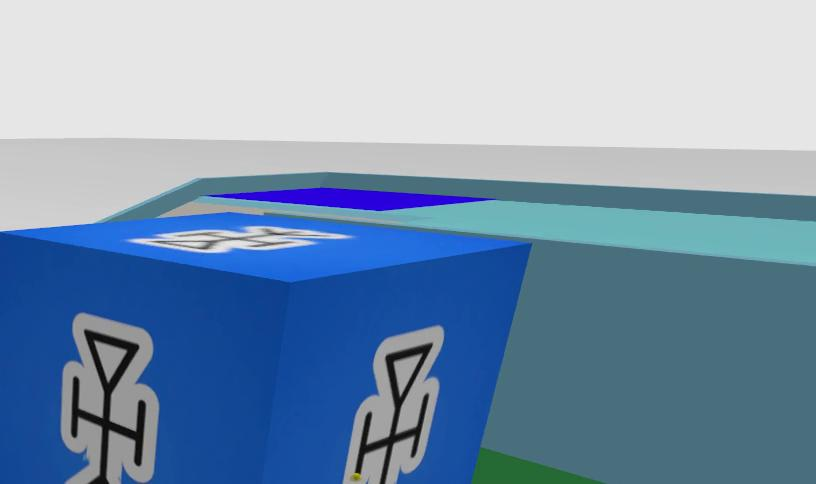KFS_REAL: (0, 213, 529, 484), (61, 313, 158, 484), (342, 326, 444, 484), (127, 225, 348, 252)
